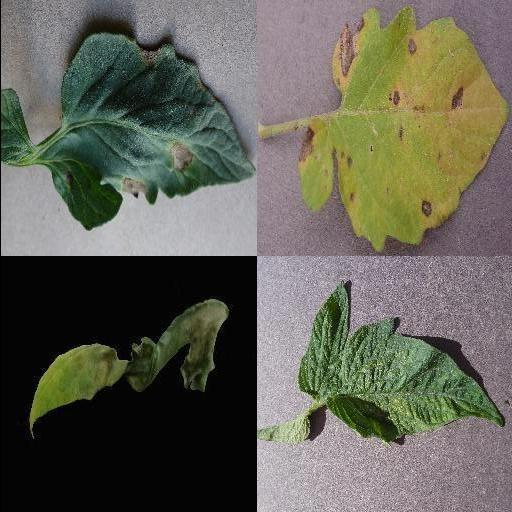Early Blight: (46, 31, 256, 232)
Late Blight: (23, 301, 229, 443)
Septoria: (328, 7, 510, 252)
Spider Mites: (297, 284, 505, 445)
